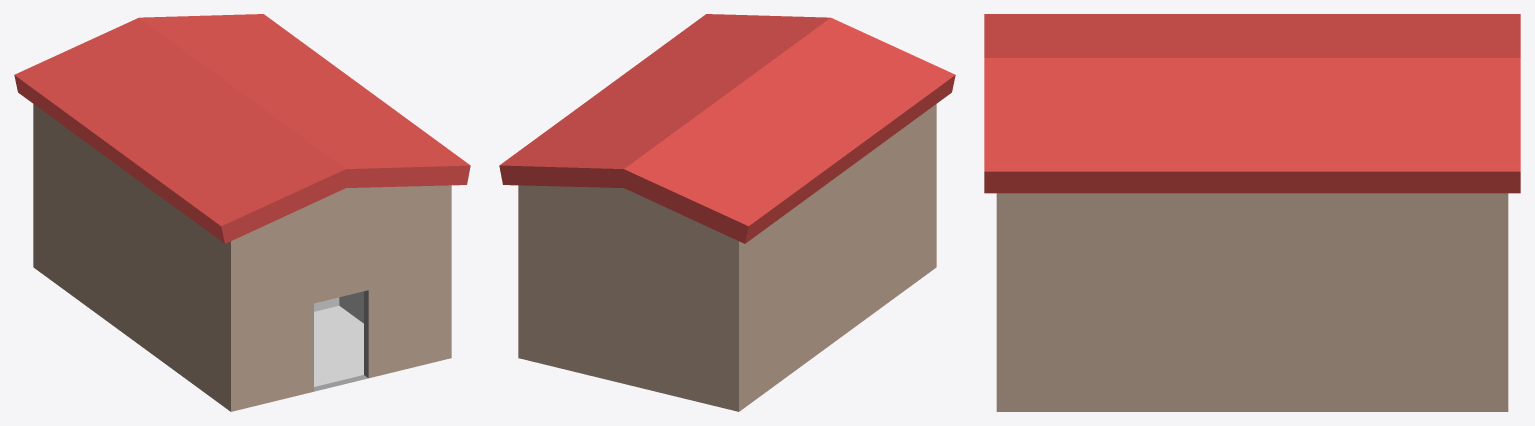
The model's file is House.fbx.
3 views of the same model, side by side, from view 1: azimuth 30°, elevation 25°; view 2: azimuth 150°, elevation 25°; view 3: azimuth 270°, elevation 25° (orthographic). The views are drawn at different scales.
Parts seen in each view (by area): view 1: Cube; view 2: Cube; view 3: Cube.
Boxes of the visible parts, left/top/right/bottom form: Cube: left=14, top=14, right=470, bottom=411; Cube: left=499, top=14, right=955, bottom=411; Cube: left=984, top=14, right=1520, bottom=411.
Bounding box in the file's own units: 965 × 811 × 1387.
